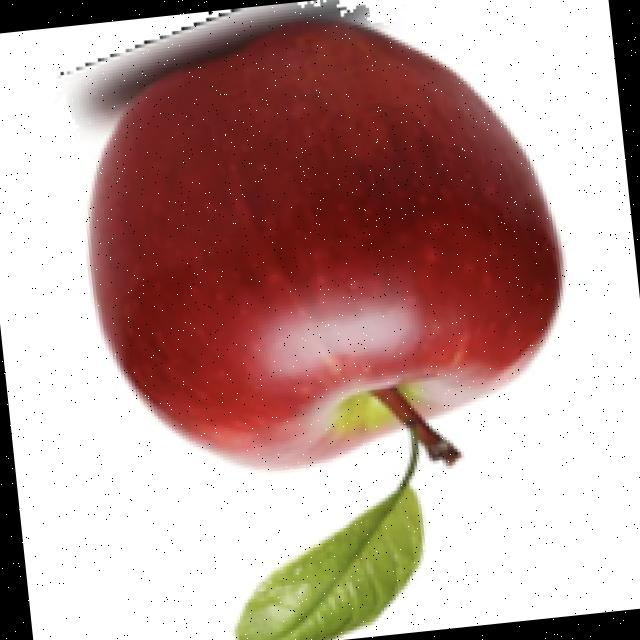apple: (56, 0, 570, 640)
